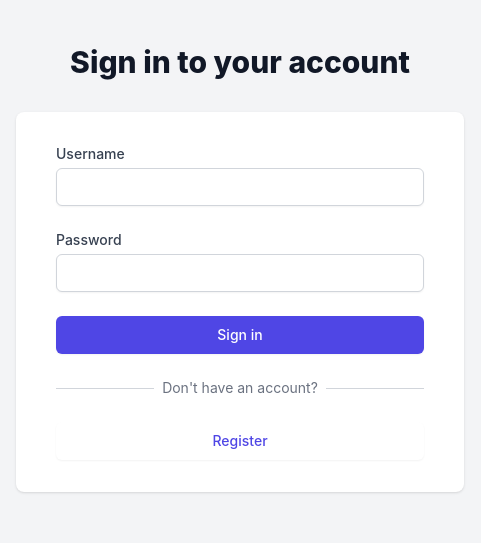
Scenario: Login Component › displays error message on login failure
This screenshot has width=481, height=543.
Type "testuser" into the field labelled "Username" at (240,187), box [56,168,424,206]
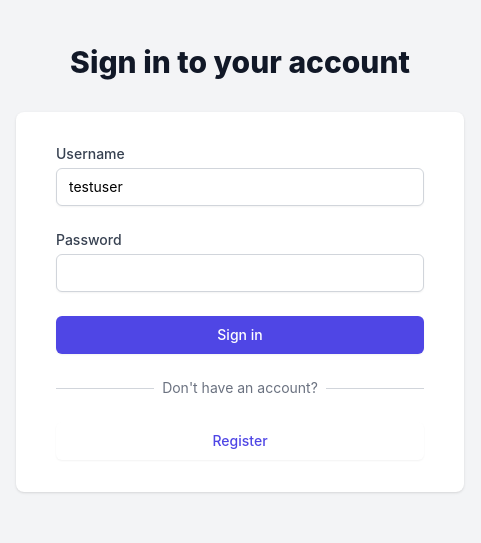
Type "wrongpassword" into the password field labelled "Password" at (240,273), box [56,254,424,292]
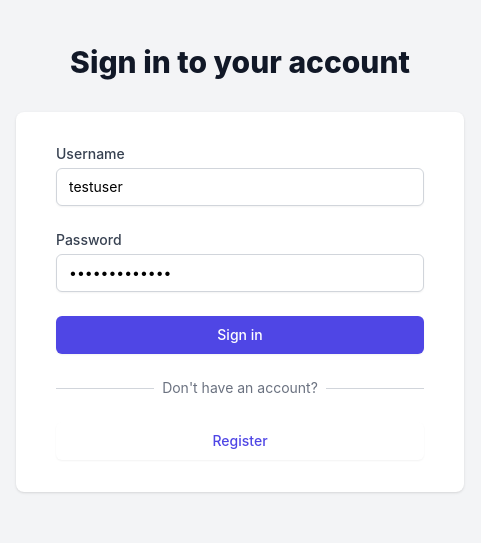
Click the button "Sign in" at (240,335), box [56,316,424,354]
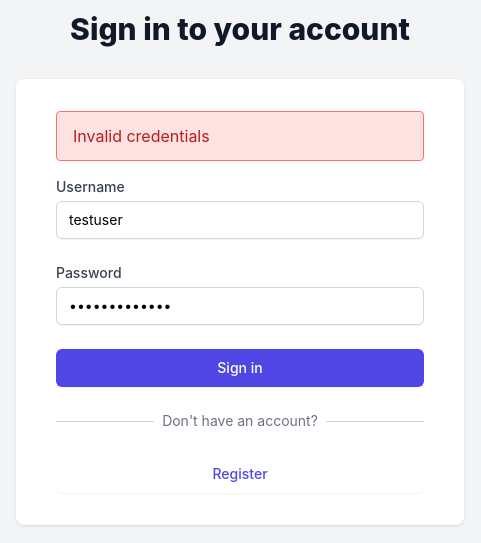
Result: the text "Invalid credentials" is shown at [73,126,210,146]
